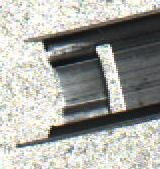press: (18, 16, 147, 150)
